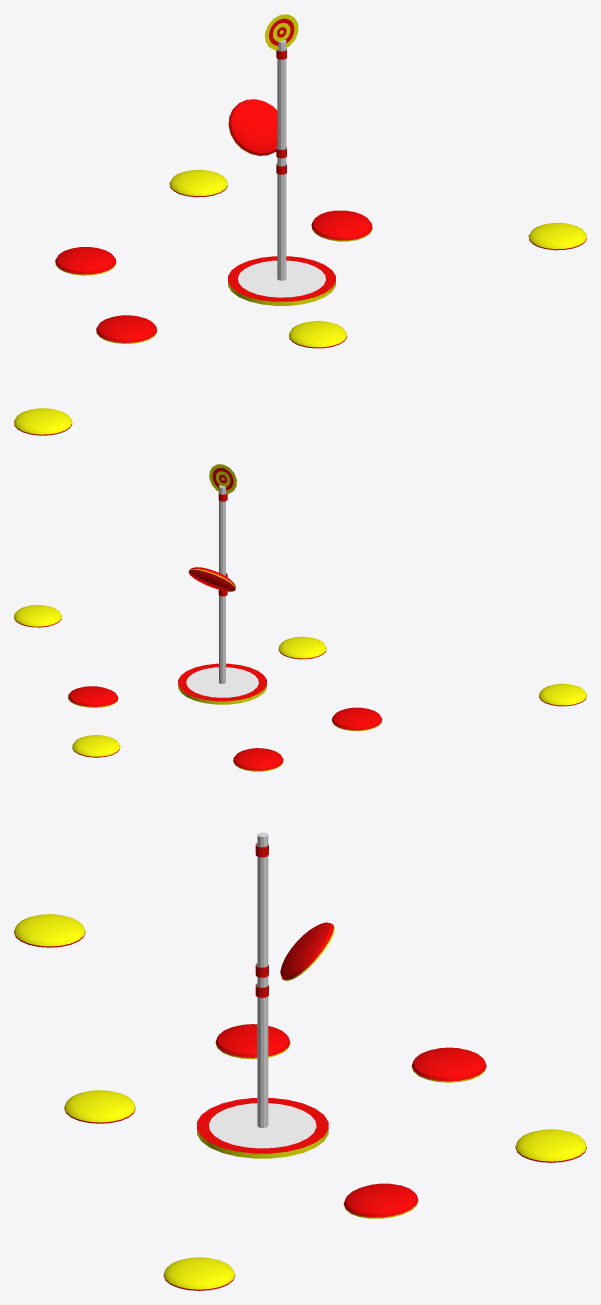
File: ForMuseum1.fbx
3 views of the same model, one above another, from view 1: azimuth 30°, elevation 25°; view 2: azimuth 150°, elevation 25°; view 3: azimuth 270°, elevation 25° (orthographic). The views are drawn at different scales.
Parts seen in each view (by area): view 1: Garage_001, Disc_Frisbee_Red_004, Group_001, Disc_Frisbee_Red_002, Disc_Frisbee_Red_003, Disc_Frisbee_Red_001, SimpleDome02#1_001, SimpleDome02#1_004, SimpleDome02#1_003, SimpleDome02#1_002, Layer0_001; view 2: Garage_001, Group_001, Disc_Frisbee_Red_003, Disc_Frisbee_Red_001, SimpleDome02#1_001, SimpleDome02#1_003, Disc_Frisbee_Red_002, SimpleDome02#1_004, SimpleDome02#1_002, Disc_Frisbee_Red_004, Layer0_001; view 3: Garage_001, Group_001, Disc_Frisbee_Red_003, Disc_Frisbee_Red_002, SimpleDome02#1_002, SimpleDome02#1_001, SimpleDome02#1_004, SimpleDome02#1_003, Disc_Frisbee_Red_001, Disc_Frisbee_Red_004.
Boxes of the visible parts, x1,y1,x2,y2 form: Garage_001: (228,256,335,305); Disc_Frisbee_Red_004: (228,99,277,155); Group_001: (277,40,286,280); Disc_Frisbee_Red_002: (311,210,372,241); Disc_Frisbee_Red_003: (55,247,116,275); Disc_Frisbee_Red_001: (96,315,157,343); SimpleDome02#1_001: (289,321,347,348); SimpleDome02#1_004: (14,408,72,435); SimpleDome02#1_003: (169,169,227,197); SimpleDome02#1_002: (528,222,586,250); Layer0_001: (265,14,298,50); Garage_001: (178,663,266,704); Group_001: (219,485,225,683); Disc_Frisbee_Red_003: (233,748,283,771); Disc_Frisbee_Red_001: (332,707,382,731); SimpleDome02#1_001: (278,636,326,659); SimpleDome02#1_003: (72,735,120,757); Disc_Frisbee_Red_002: (68,686,118,707); SimpleDome02#1_004: (539,683,586,706); SimpleDome02#1_002: (14,605,61,627); Disc_Frisbee_Red_004: (188,567,235,591); Layer0_001: (209,464,236,493); Garage_001: (197,1098,328,1158); Group_001: (257,832,268,1127); Disc_Frisbee_Red_003: (411,1047,486,1082); Disc_Frisbee_Red_002: (343,1183,418,1218); SimpleDome02#1_002: (163,1257,235,1290); SimpleDome02#1_001: (64,1090,135,1123); SimpleDome02#1_004: (14,914,85,947); SimpleDome02#1_003: (515,1129,586,1162); Disc_Frisbee_Red_001: (215,1024,290,1059); Disc_Frisbee_Red_004: (280,922,334,981).
Bounding box in the file's own units: 4055 × 1711 × 2630.
